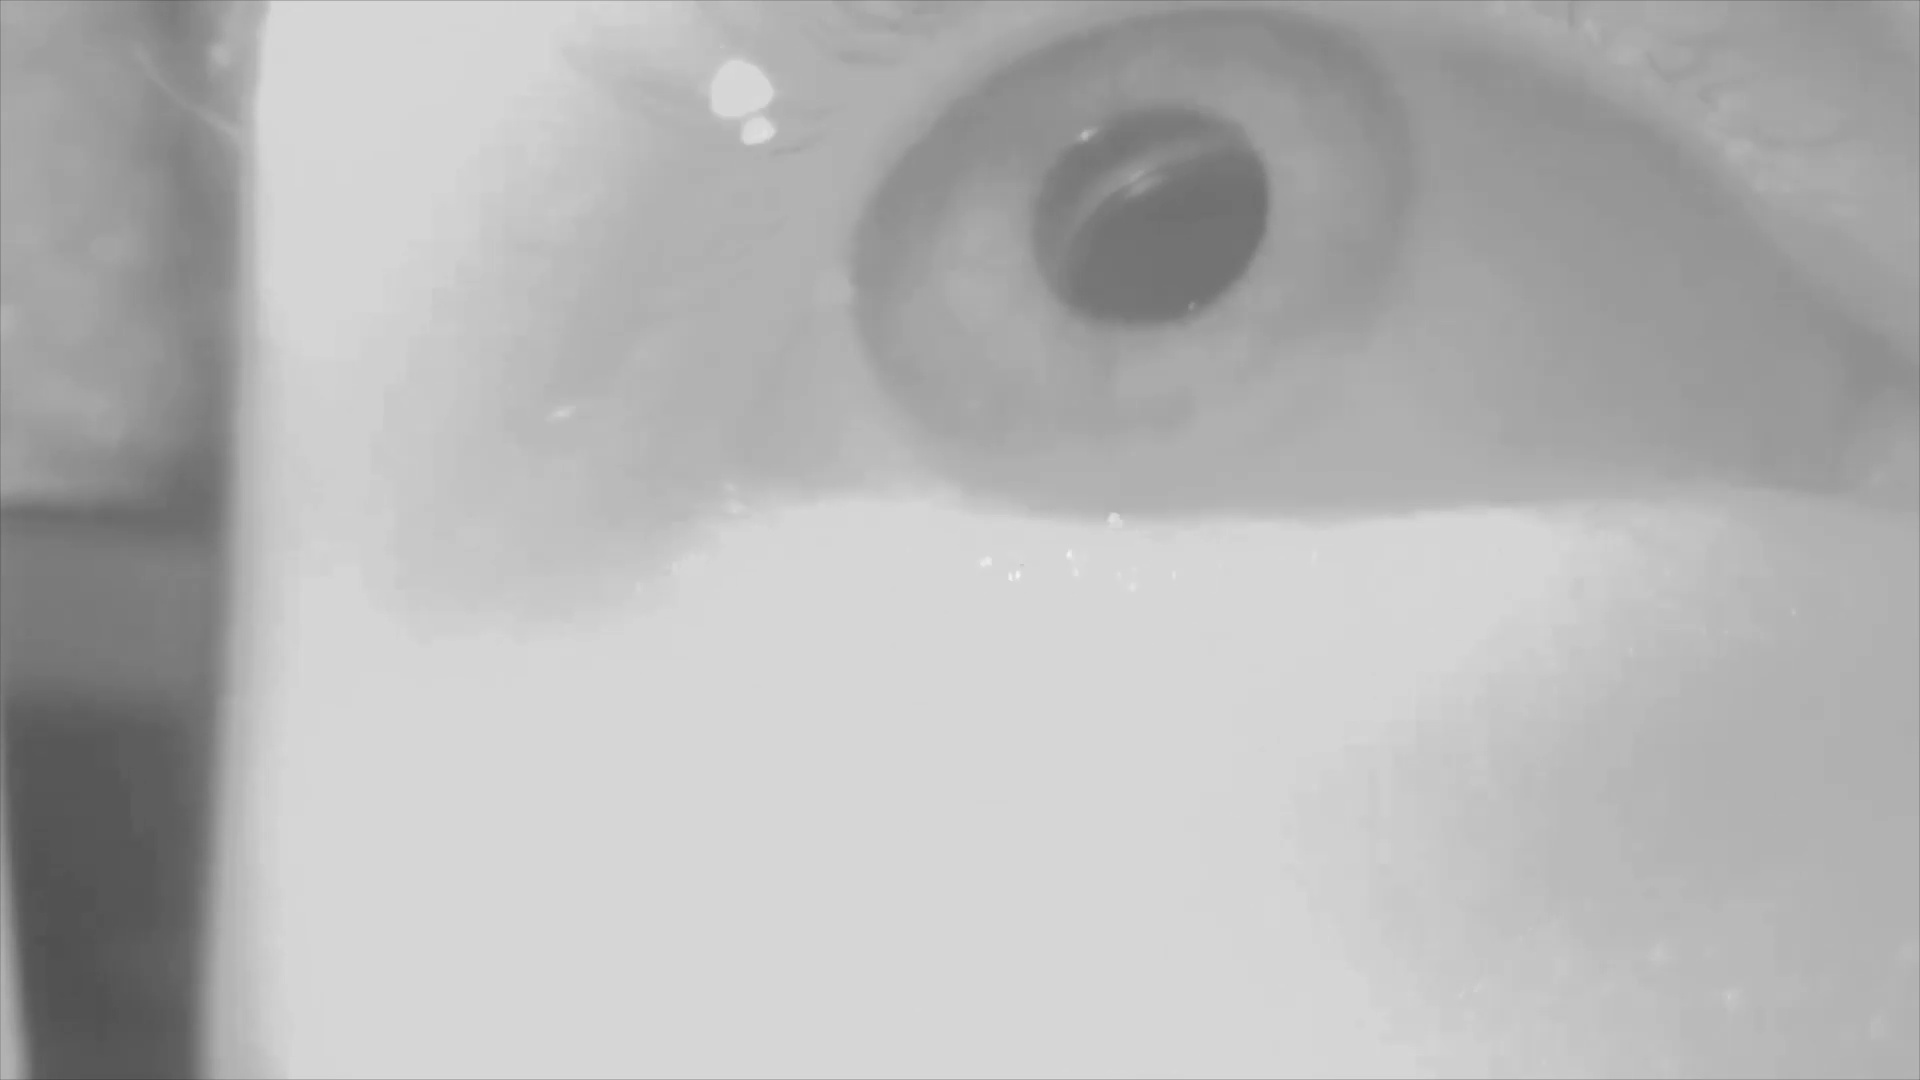pupil: (1039, 107, 1271, 320)
